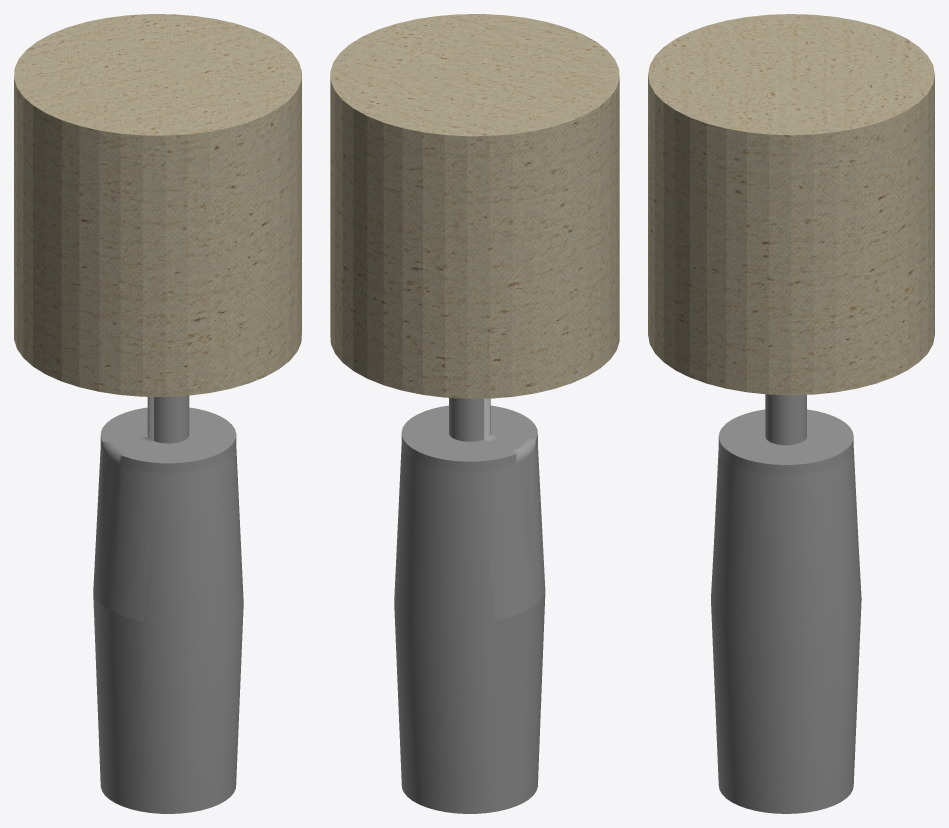
The picture shows the model from 3 angles, left to right: view 1: azimuth 30°, elevation 25°; view 2: azimuth 150°, elevation 25°; view 3: azimuth 270°, elevation 25°; orthographic projection.
Parts seen in each view (by area): view 1: LampShade_1, Stand_0; view 2: LampShade_1, Stand_0; view 3: LampShade_1, Stand_0.
Part boxes in pixels (x1,y1,x2,y2): LampShade_1: (14, 14, 301, 396); Stand_0: (93, 395, 243, 813); LampShade_1: (330, 14, 619, 398); Stand_0: (394, 398, 545, 813); LampShade_1: (648, 14, 934, 395); Stand_0: (711, 394, 861, 813).
Bounding box in the file's own units: 3.4 × 9.24 × 3.4.
3 materials, 1 textured.
